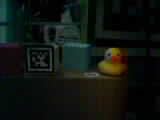duck: (97, 46, 121, 77)
